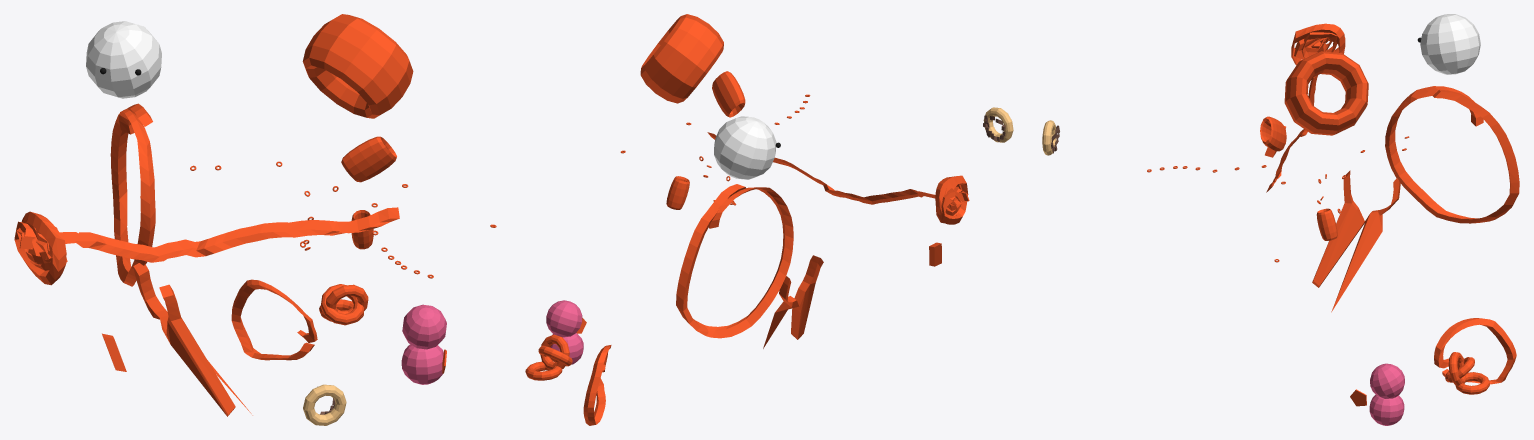
File: model-triangulated.obj
3 renders of one model, left to right at view 1: azimuth 30°, elevation 25°; view 2: azimuth 150°, elevation 25°; view 3: azimuth 270°, elevation 25°, orthographic. The views are drawn at different scales.
Visible parts, largest first — view 1: group73411841, group1699915566, group577205537, group133841570, group1979535133, group451146773, group812675036, group1402815471, group266025430, group1619699854, group417552351, group2028127514 (+1 smaller); view 2: group73411841, group577205537, group133841570, group1699915566, group1979535133, group451146773, group1402815471, group812675036, group136622348, group1619699854, group2028127514, group1437601140; view 3: group73411841, group577205537, group1979535133, group133841570, group1699915566, group451146773, group1402815471, group266025430, group812675036, group136622348, group1437601140.
Boxes of the visible parts, left/top/right/bottom form: group73411841: left=302, top=14, right=413, bottom=118; group1699915566: left=14, top=207, right=399, bottom=285; group577205537: left=110, top=103, right=155, bottom=286; group133841570: left=86, top=21, right=161, bottom=98; group1979535133: left=133, top=263, right=252, bottom=416; group451146773: left=231, top=279, right=317, bottom=360; group812675036: left=341, top=136, right=396, bottom=182; group1402815471: left=402, top=304, right=446, bottom=349; group266025430: left=401, top=344, right=443, bottom=384; group1619699854: left=303, top=384, right=346, bottom=425; group417552351: left=321, top=284, right=364, bottom=325; group2028127514: left=326, top=284, right=368, bottom=313; group73411841: left=640, top=14, right=723, bottom=103; group577205537: left=676, top=184, right=793, bottom=338; group133841570: left=714, top=116, right=776, bottom=179; group1699915566: left=707, top=132, right=968, bottom=224; group1979535133: left=763, top=255, right=823, bottom=348; group451146773: left=583, top=345, right=611, bottom=425; group1402815471: left=546, top=300, right=582, bottom=337; group812675036: left=712, top=71, right=745, bottom=117; group136622348: left=666, top=176, right=689, bottom=209; group1619699854: left=983, top=107, right=1013, bottom=142; group2028127514: left=540, top=334, right=569, bottom=369; group1437601140: left=525, top=361, right=562, bottom=380; group73411841: left=1284, top=51, right=1368, bottom=135; group577205537: left=1385, top=86, right=1519, bottom=223; group1979535133: left=1312, top=170, right=1400, bottom=312; group133841570: left=1420, top=14, right=1480, bottom=74; group1699915566: left=1266, top=23, right=1345, bottom=192; group451146773: left=1434, top=318, right=1516, bottom=384; group1402815471: left=1370, top=363, right=1404, bottom=398; group266025430: left=1369, top=394, right=1404, bottom=425; group812675036: left=1260, top=116, right=1286, bottom=151; group136622348: left=1316, top=208, right=1337, bottom=240; group1437601140: left=1455, top=372, right=1489, bottom=394.
Bounding box in the file's own units: 1.66 × 1.42 × 1.87.
